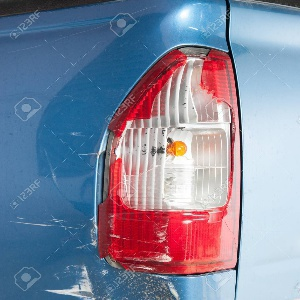bumper: (44, 128, 200, 198)
